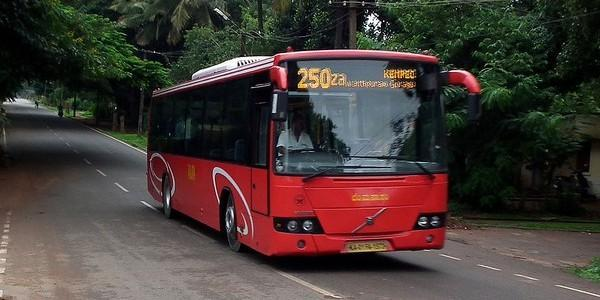Bus: (146, 49, 479, 259)
